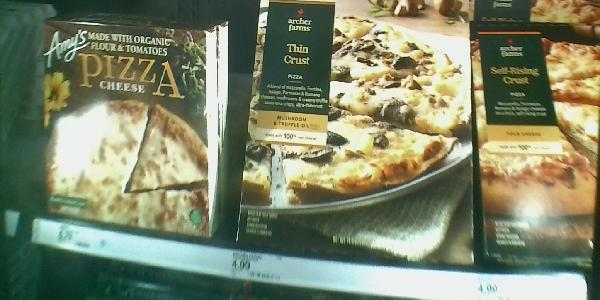pizza1: (228, 1, 477, 266), (39, 21, 219, 242)
